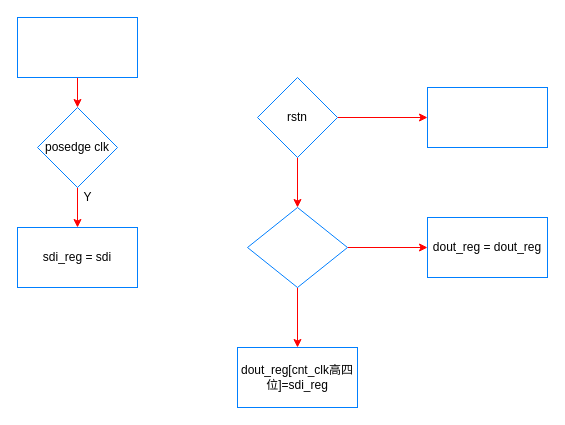
Image size: 565x425. Some labels were removed from this diagram. Each missing label, with the box of its shape:
cnt_clk低四位=1000: (246, 206, 348, 288)
dout_reg = 16{0}: (426, 86, 548, 148)
sdi_reg = 0: (16, 16, 138, 78)
